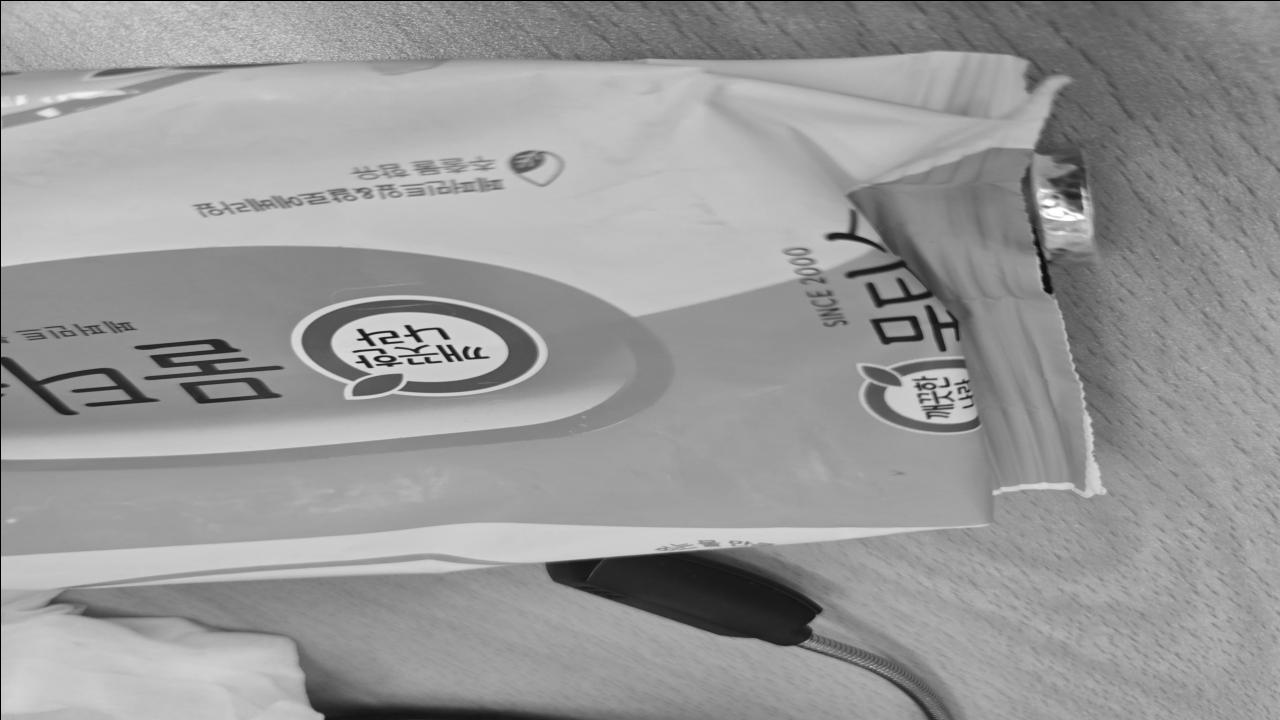ring: (1024, 150, 1098, 262)
